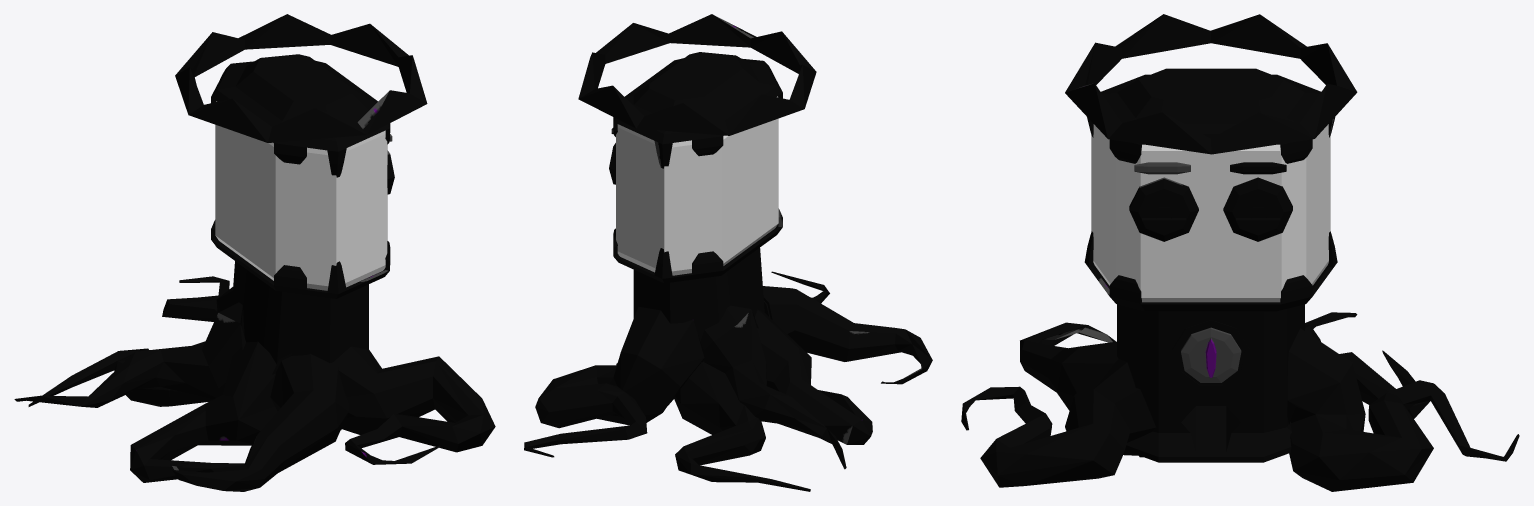
File: Gatcha_Machine.fbx
3 views of the same model, side by side, from view 1: azimuth 30°, elevation 25°; view 2: azimuth 150°, elevation 25°; view 3: azimuth 270°, elevation 25° (orthographic). The views are drawn at different scales.
Parts seen in each view (by area): view 1: base.001, glass.001, crown.002; view 2: base.001, glass.001, crown.002; view 3: base.001, glass.001, crown.002, spinner.001, brow_l.001, brow_r.001.
Boxes of the visible parts, x1=… form: base.001: x1=14, y1=54, x2=495, y2=491; glass.001: x1=215, y1=101, x2=387, y2=290; crown.002: x1=175, y1=14, x2=427, y2=142; base.001: x1=524, y1=52, x2=932, y2=491; glass.001: x1=616, y1=96, x2=778, y2=275; crown.002: x1=578, y1=14, x2=816, y2=135; base.001: x1=961, y1=68, x2=1519, y2=491; glass.001: x1=1091, y1=124, x2=1330, y2=302; crown.002: x1=1065, y1=14, x2=1357, y2=154; spinner.001: x1=1181, y1=327, x2=1241, y2=382; brow_l.001: x1=1134, y1=162, x2=1190, y2=174; brow_r.001: x1=1230, y1=162, x2=1286, y2=174.
Bounding box in the file's own units: 792 × 846 × 1020.
Materials: 2 (2 with a texture image).
